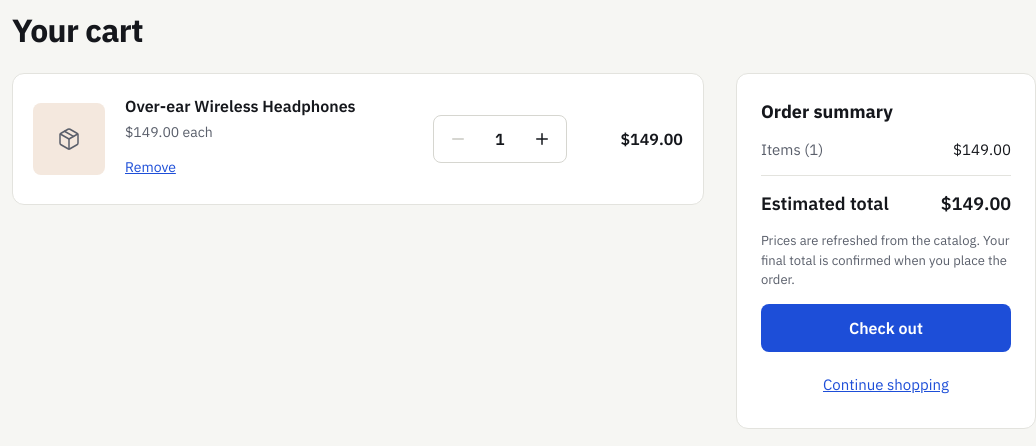
Test: CartPage › updates the line and the total when the quantity changes
The image size is (1036, 446).
Click the button named "Increase quantity" at (542, 139), box [518,116,566,162]
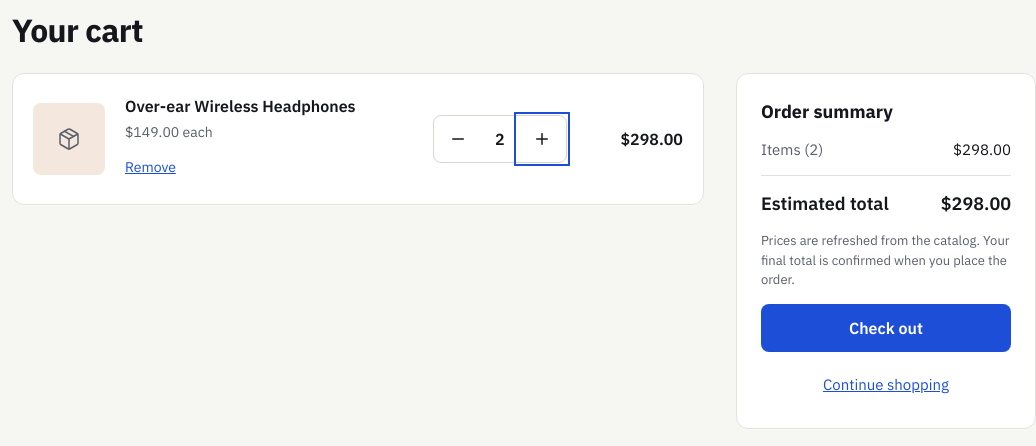
Expected: the list item shows "$298.00", [620,129,683,149]
